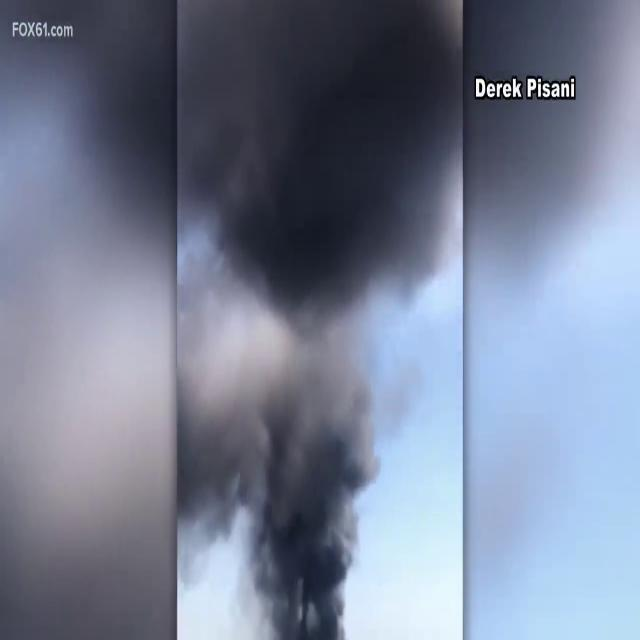Smoke: (177, 0, 461, 640), (176, 306, 381, 640)
